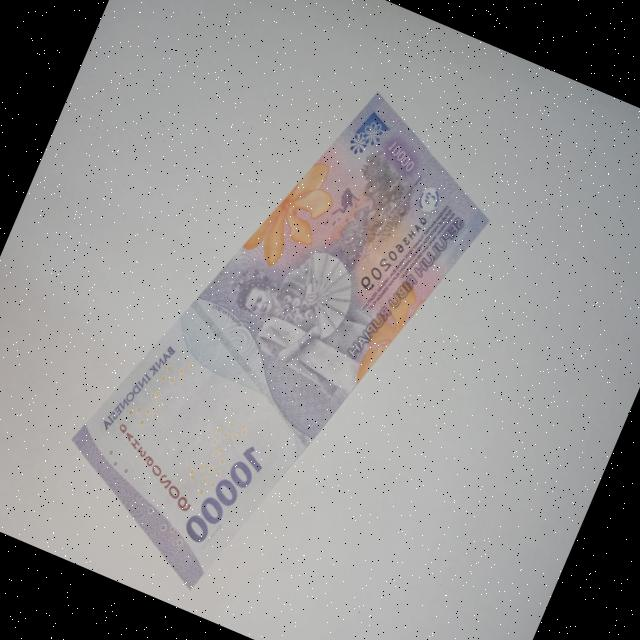10K: (30, 25, 523, 640)
